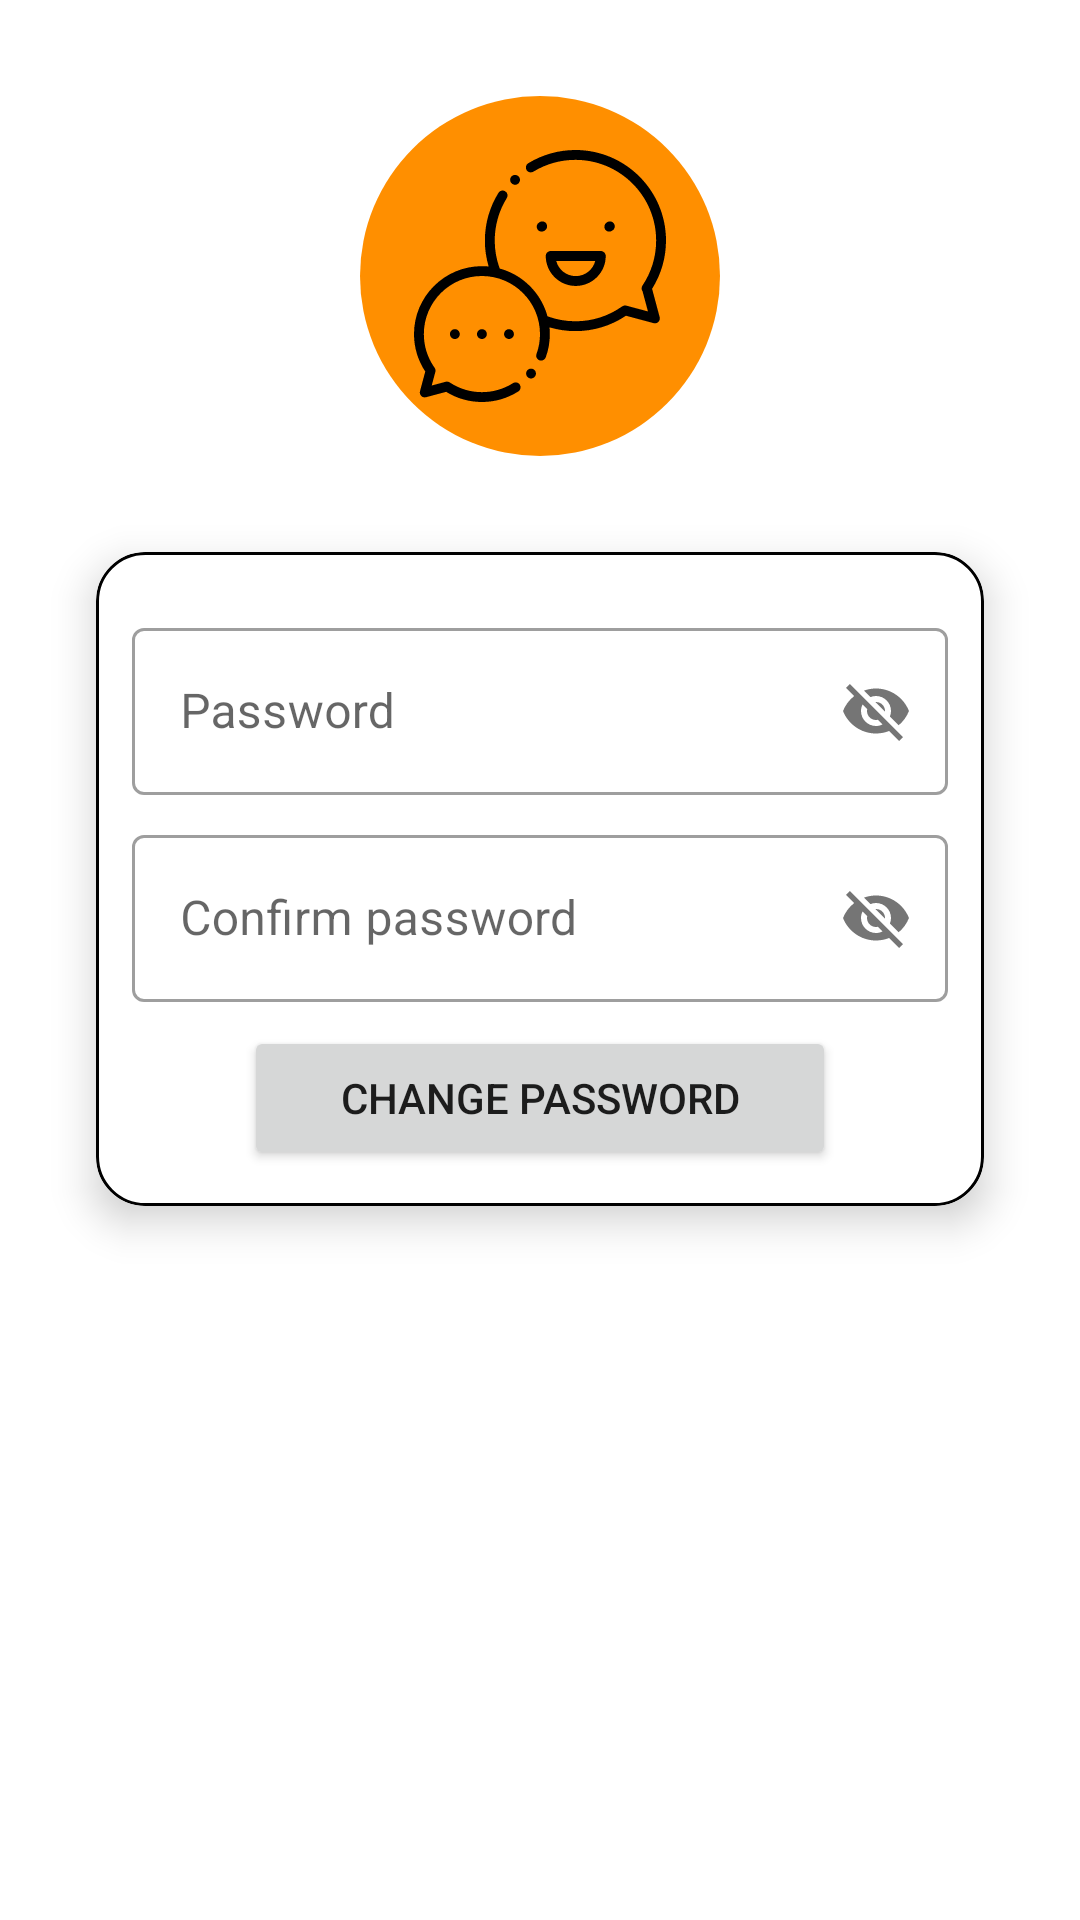

Icon bounding boxes for this 1080*1920 phone screenshot, format {"left": x1, "top": y1, "right": x2, "bottom": y2}:
chat: {"left": 360, "top": 96, "right": 720, "bottom": 456}
